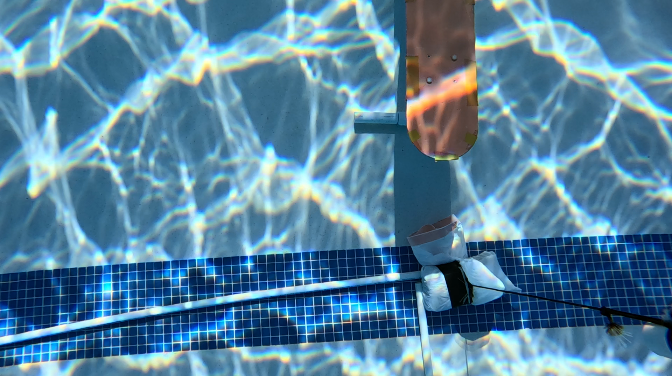pathmarker: (404, 0, 478, 158)
